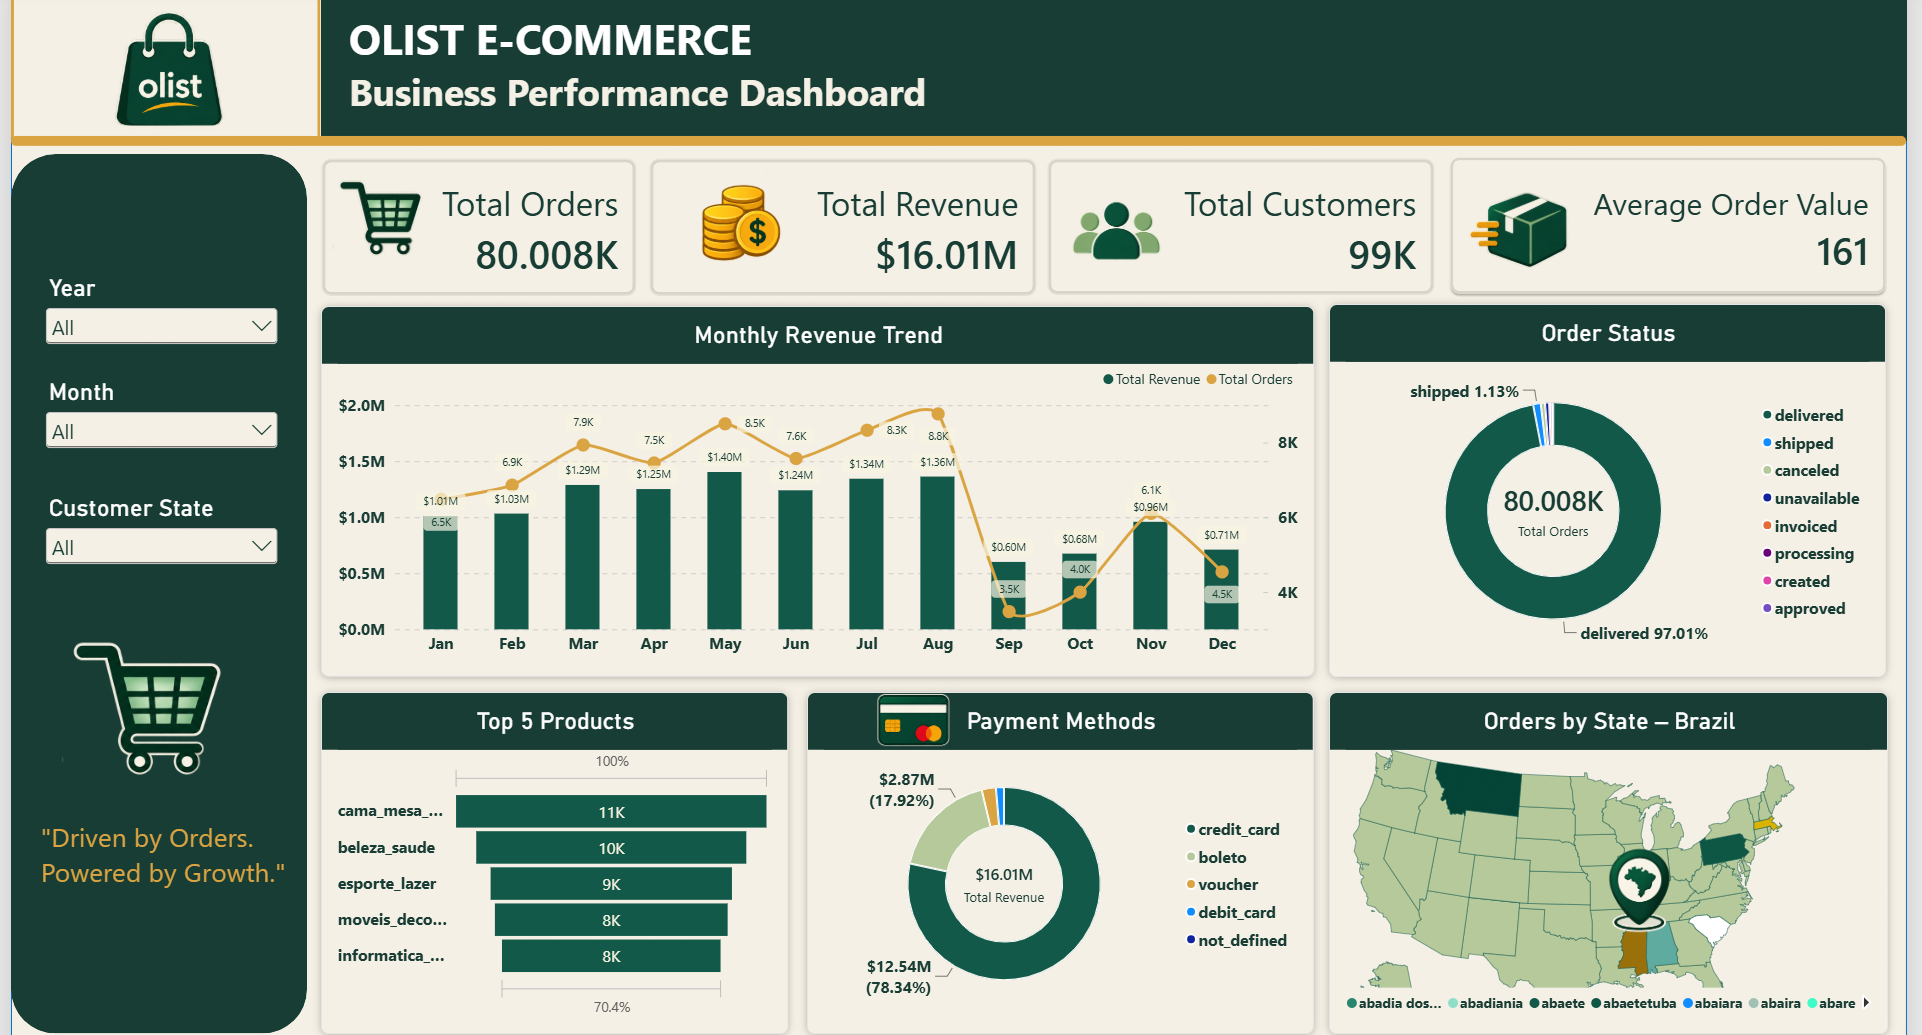

The dashboard page shown, as its layout file describes it:
{"tool":"powerbi","page":{"name":"Business Performance","canvas":[1920,1080],"ordinal":0},"visuals":[{"type":"shape","box":[0,1.6,1920.8,1079.2],"z":0},{"type":"cardVisual","title":"Total Orders","fields":{"Data":["ecommerce_analysis olist_customers.Total Orders"]},"box":[313.3,168.9,320,140],"z":1000},{"type":"cardVisual","fields":{"Data":["ecommerce_analysis olist_customers.Total Revenue"]},"box":[646.7,168.9,393.3,140],"z":2000},{"type":"cardVisual","fields":{"Data":["ecommerce_analysis olist_customers.Average Order Value"]},"box":[1453.8,164.8,448.4,145.1],"z":3000},{"type":"cardVisual","fields":{"Data":["ecommerce_analysis olist_customers.Total Customers"]},"box":[1050.6,169.1,393.8,139.5],"z":4000},{"type":"lineStackedColumnComboChart","title":"Monthly Revenue Trend","fields":{"Category":["Date Table.Month"],"Y":["ecommerce_analysis olist_customers.Total Revenue"],"Y2":["ecommerce_analysis olist_customers.Total Orders"]},"box":[313.3,317.8,1006.7,375.6],"z":5000},{"type":"donutChart","title":"Order Status","fields":{"Category":["ecommerce_analysis olist_orders.order_status"],"Y":["ecommerce_analysis olist_customers.Total Orders"]},"box":[1335.6,315.6,564.4,377.8],"z":6000},{"type":"donutChart","title":"Payment Methods","fields":{"Category":["ecommerce_analysis olist_order_payments.payment_type"],"Y":["ecommerce_analysis olist_customers.Total Revenue"]},"box":[806.7,708.9,513.3,346.7],"z":7000},{"type":"funnel","title":"Top 5 Products","fields":{"Category":["ecommerce_analysis olist_products.product_category_name"],"Y":["ecommerce_analysis olist_customers.Total Order Items"]},"box":[313.3,708.9,473.3,346.7],"z":8000},{"type":"shapeMap","title":"Orders by State – Brazil","fields":{"Category":["ecommerce_analysis olist_customers.customer_state"],"Series":["ecommerce_analysis olist_customers.customer_city"],"Value":["ecommerce_analysis olist_customers.Total Orders"]},"box":[1335.6,708.9,566.7,346.7],"z":9000},{"type":"shape","box":[0,164.4,300,891.1],"z":10000},{"type":"slicer","fields":{"Values":["Date Table.Year"]},"box":[31.1,286.7,244.4,115.6],"z":11000},{"type":"slicer","fields":{"Values":["ecommerce_analysis olist_customers.customer_state"]},"box":[31.1,508.9,244.4,182.2],"z":12000},{"type":"slicer","fields":{"Values":["Date Table.Month"]},"box":[31.1,391.1,244.4,168.9],"z":13000},{"type":"shape","box":[313.3,0,1608.9,151.1],"z":14000},{"type":"textbox","box":[342.2,17.8,1188.9,133.3],"z":15000},{"type":"shape","box":[0,48.9,1920,204.4],"z":16000},{"type":"image","box":[0,0,313.3,151.1],"z":17000},{"type":"image","box":[0,611.1,275.6,195.6],"z":18000},{"type":"textbox","box":[31.1,837.8,282.2,242.2],"z":19000},{"type":"image","box":[662.2,168.9,155.6,117.8],"z":20000},{"type":"image","box":[275.6,164.4,197.8,111.1],"z":21000},{"type":"image","box":[1017.2,180.3,202.2,113.3],"z":22000},{"type":"image","box":[1454.9,190.5,146.7,120],"z":23000},{"type":"image","box":[1600,860,88.9,117.8],"z":23001}]}

Visuals, with their boxes in screenshot pixels (x1, y1, x2, y2):
shape: l=5, t=0, r=1889, b=1034
"Total Orders" cardVisual: l=312, t=156, r=626, b=293
cardVisual - ecommerce_analysis olist_customers.Total Revenue: l=639, t=156, r=1025, b=293
cardVisual - ecommerce_analysis olist_customers.Average Order Value: l=1431, t=152, r=1871, b=294
cardVisual - ecommerce_analysis olist_customers.Total Customers: l=1035, t=156, r=1422, b=293
"Monthly Revenue Trend" lineStackedColumnComboChart: l=312, t=302, r=1300, b=670
"Order Status" donutChart: l=1315, t=300, r=1869, b=670
"Payment Methods" donutChart: l=796, t=685, r=1300, b=1025
"Top 5 Products" funnel: l=312, t=685, r=777, b=1025
"Orders by State – Brazil" shapeMap: l=1315, t=685, r=1871, b=1025
shape: l=5, t=151, r=299, b=1025
slicer - Date Table.Year: l=36, t=271, r=275, b=385
slicer - ecommerce_analysis olist_customers.customer_state: l=36, t=489, r=275, b=668
slicer - Date Table.Month: l=36, t=374, r=275, b=539
shape: l=312, t=0, r=1890, b=138
textbox: l=341, t=7, r=1507, b=138
shape: l=5, t=38, r=1888, b=238
image: l=5, t=0, r=312, b=138
image: l=5, t=589, r=275, b=781
textbox: l=36, t=812, r=312, b=1034
image: l=655, t=156, r=807, b=271
image: l=275, t=151, r=469, b=260
image: l=1003, t=167, r=1201, b=278
image: l=1432, t=177, r=1576, b=295
image: l=1574, t=834, r=1662, b=949
